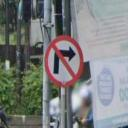NoVirarDireita: (43, 33, 85, 91)
